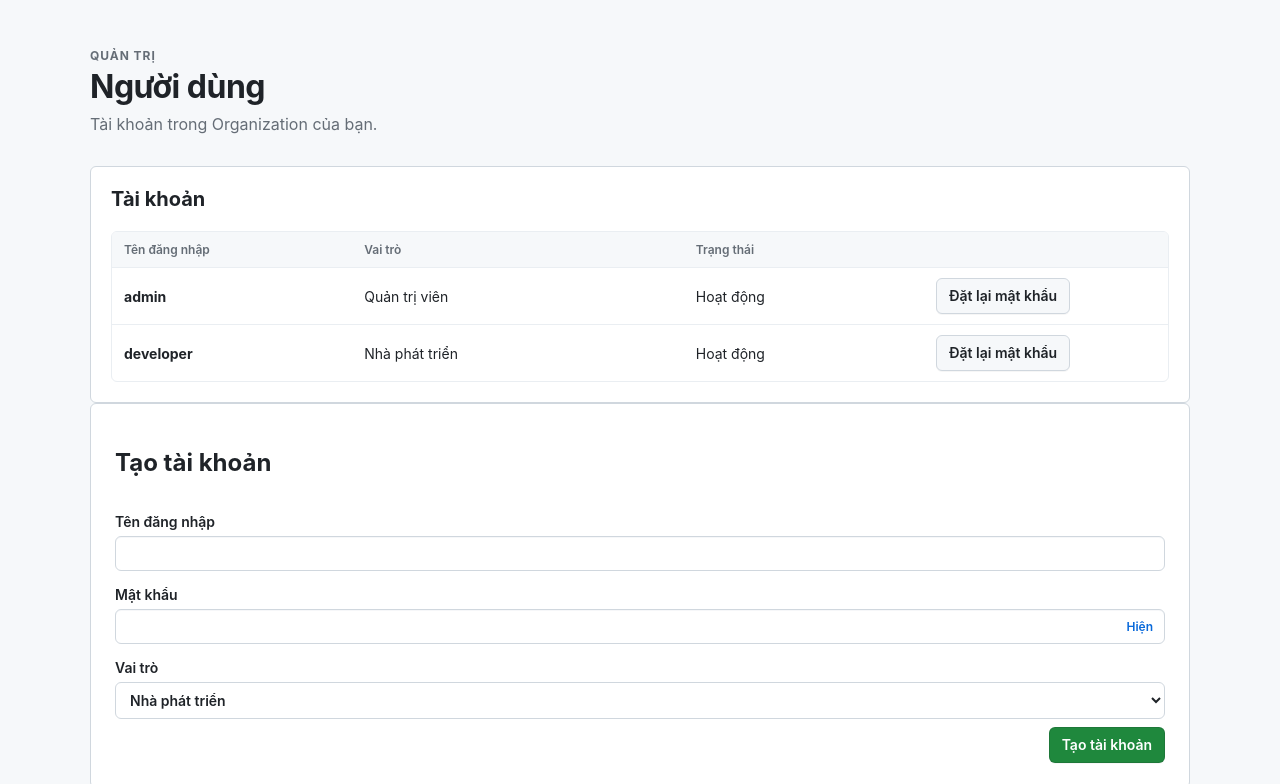
Test: resets the password of an account from its row action
The image size is (1280, 784).
Expected: the text "developer" is shown, [124,344,193,362]
Click the button "Đặt lại mật khẩu" in the row of "Nhà phát triển" at (1003, 353), box [936,335,1070,371]
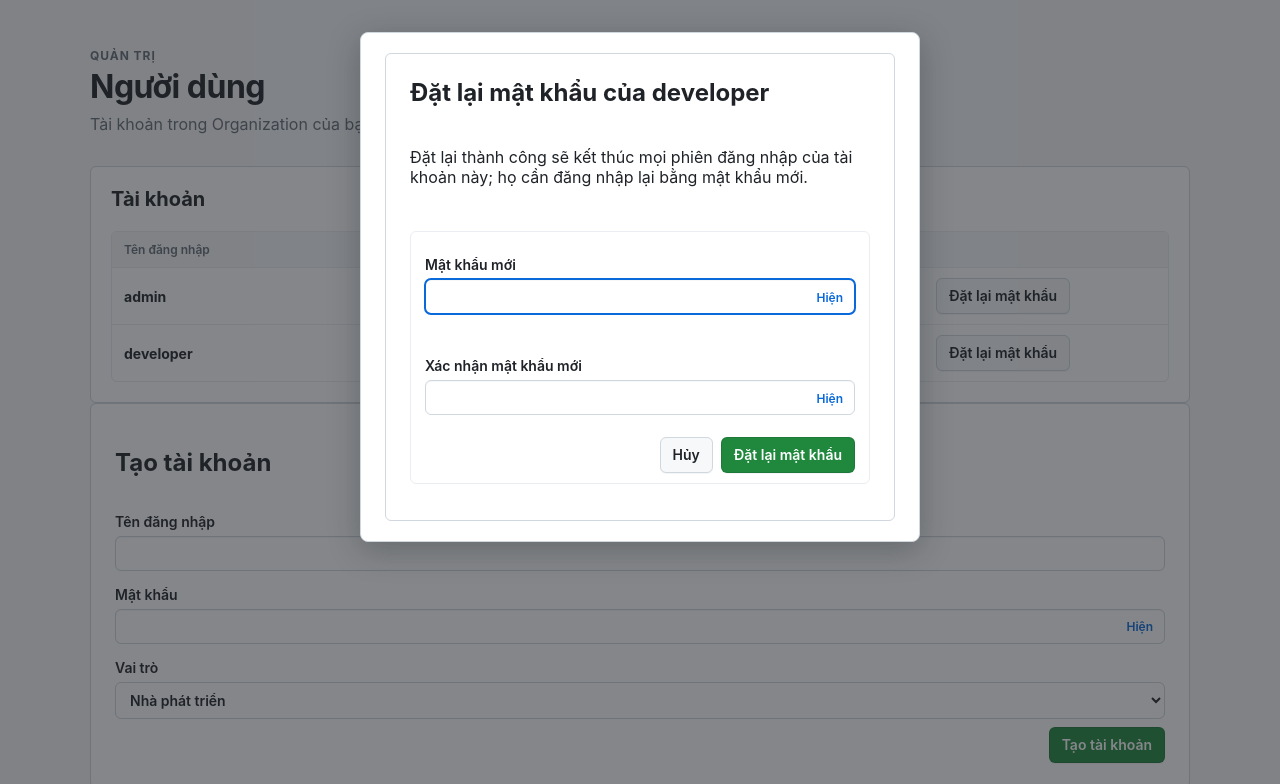
Type "reset-secret-1" into the password field labelled "Mật khẩu mới" at (640, 296), box [425,279,855,314]
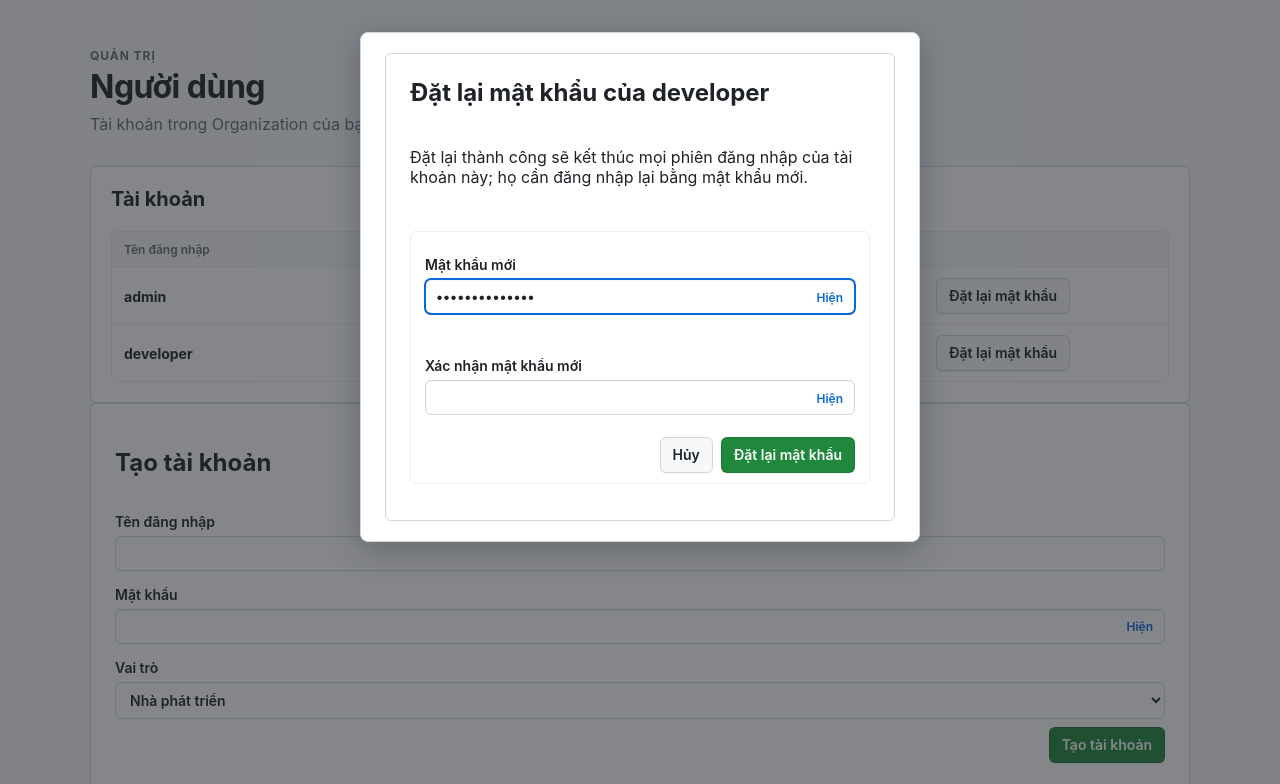
Type "reset-secret-1" into the password field labelled "Xác nhận mật khẩu mới" at (640, 398), box [425,380,855,415]
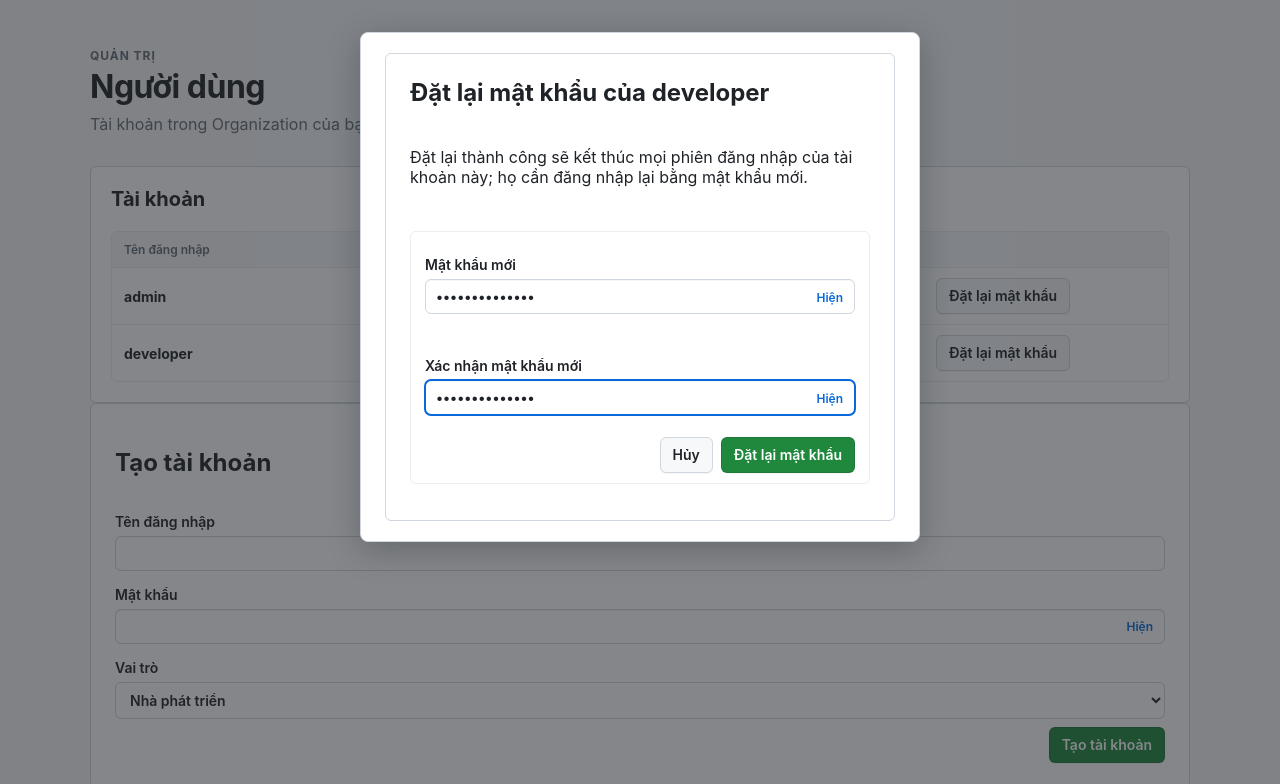
Click the button "Đặt lại mật khẩu" at (788, 455), box [721,437,855,473]
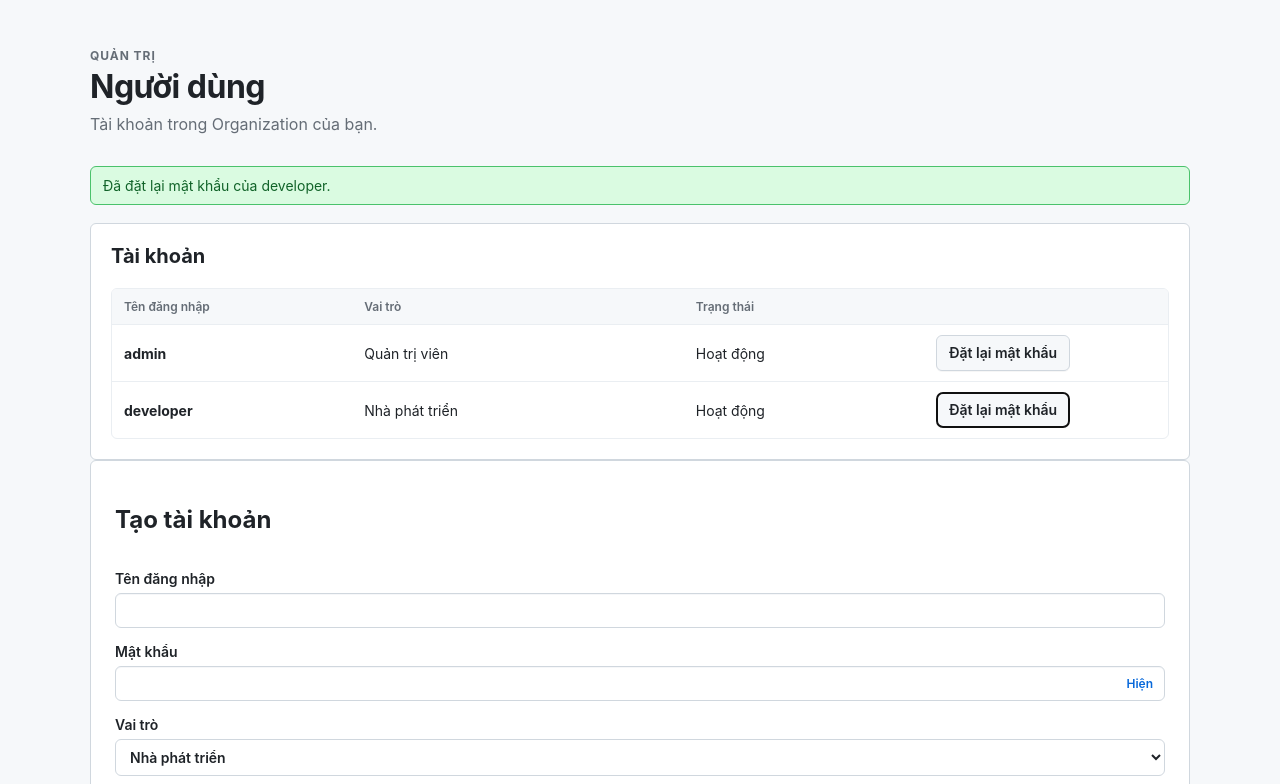
Expected: the message reads "Đã đặt lại mật khẩu của developer.", [103,177,330,194]
Expected: the dialog is gone
